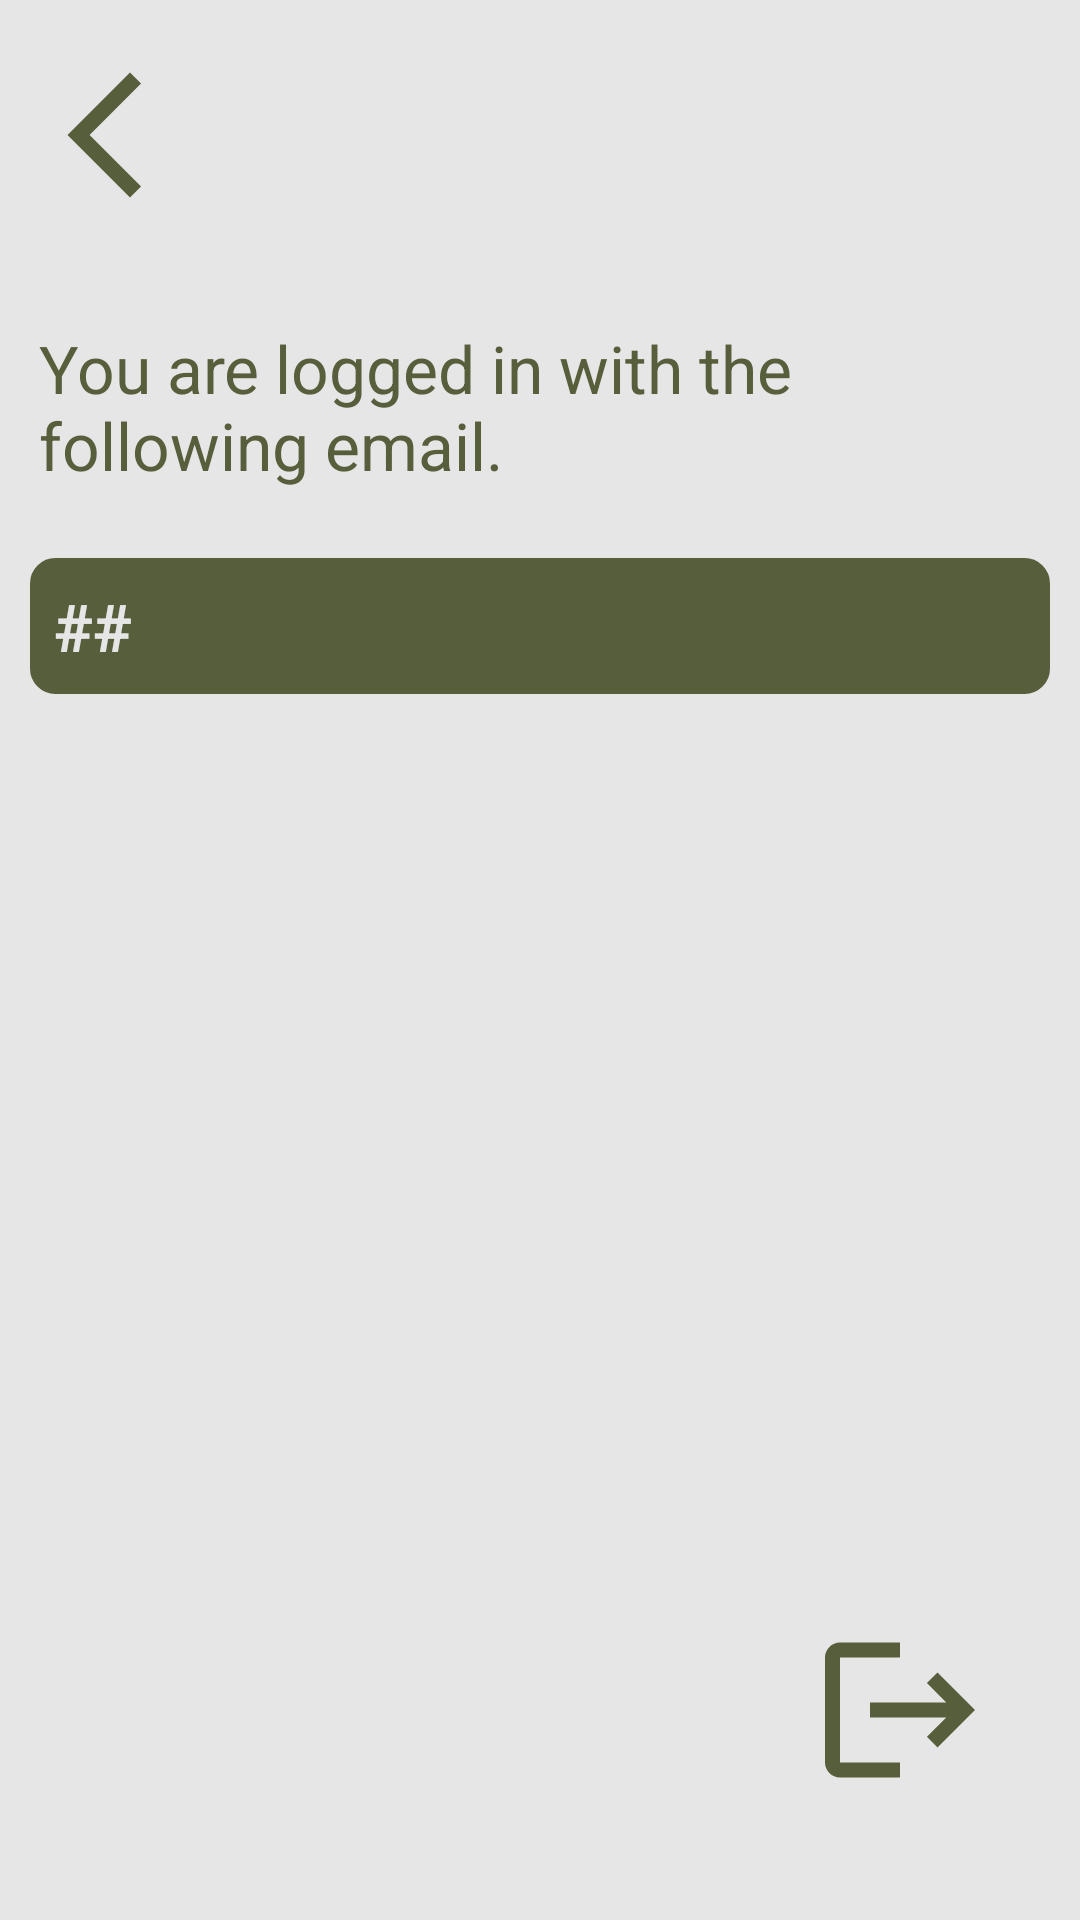

Screen size 1080 × 1920. Icon name, then its box in pixels as region(x1, y1, x2, y2):
arrow back: region(68, 73, 141, 197)
